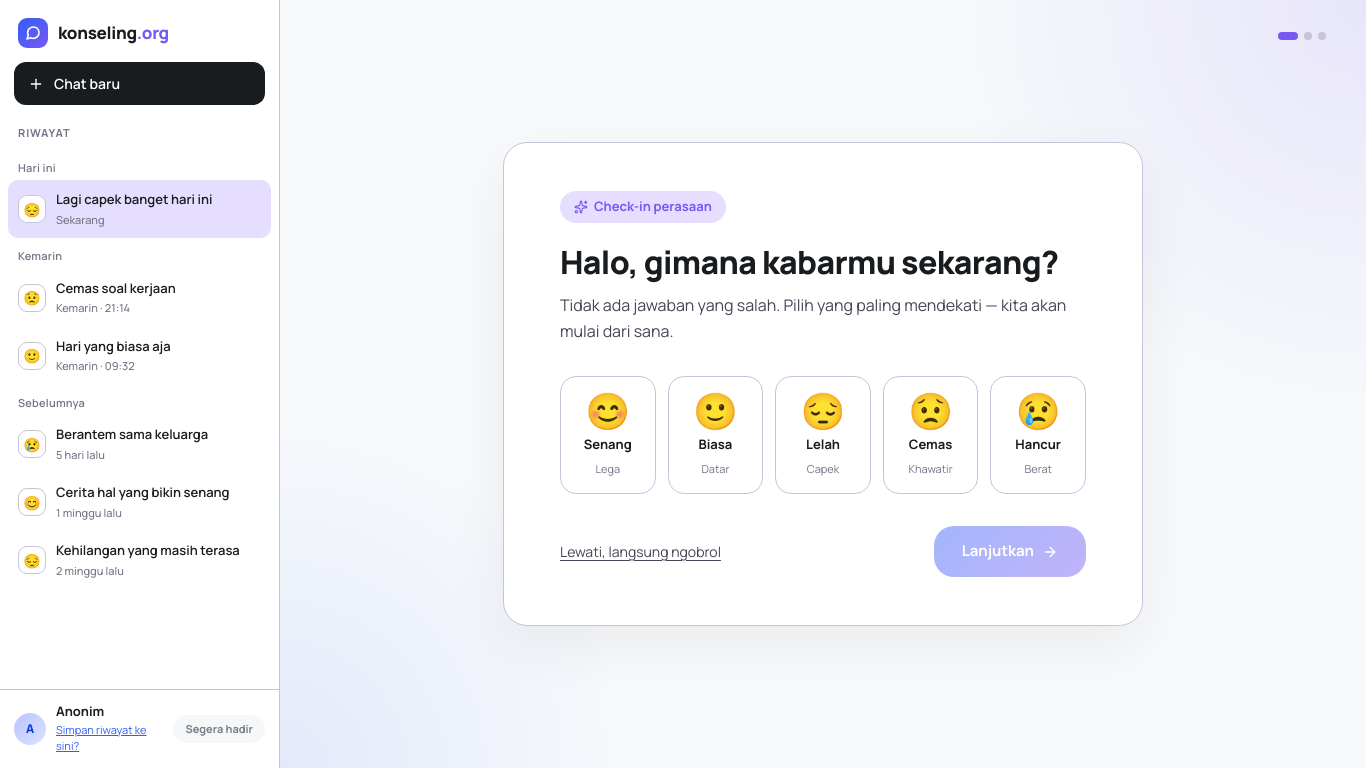
Test: ChatExperience › shows the takeover immediately for critical local crisis text before the stream responds
The width and height of the screenshot is (1366, 768).
Click the button with aria-label "Biasa — Datar". click: (715, 435)
box: left=668, top=376, right=763, bottom=494
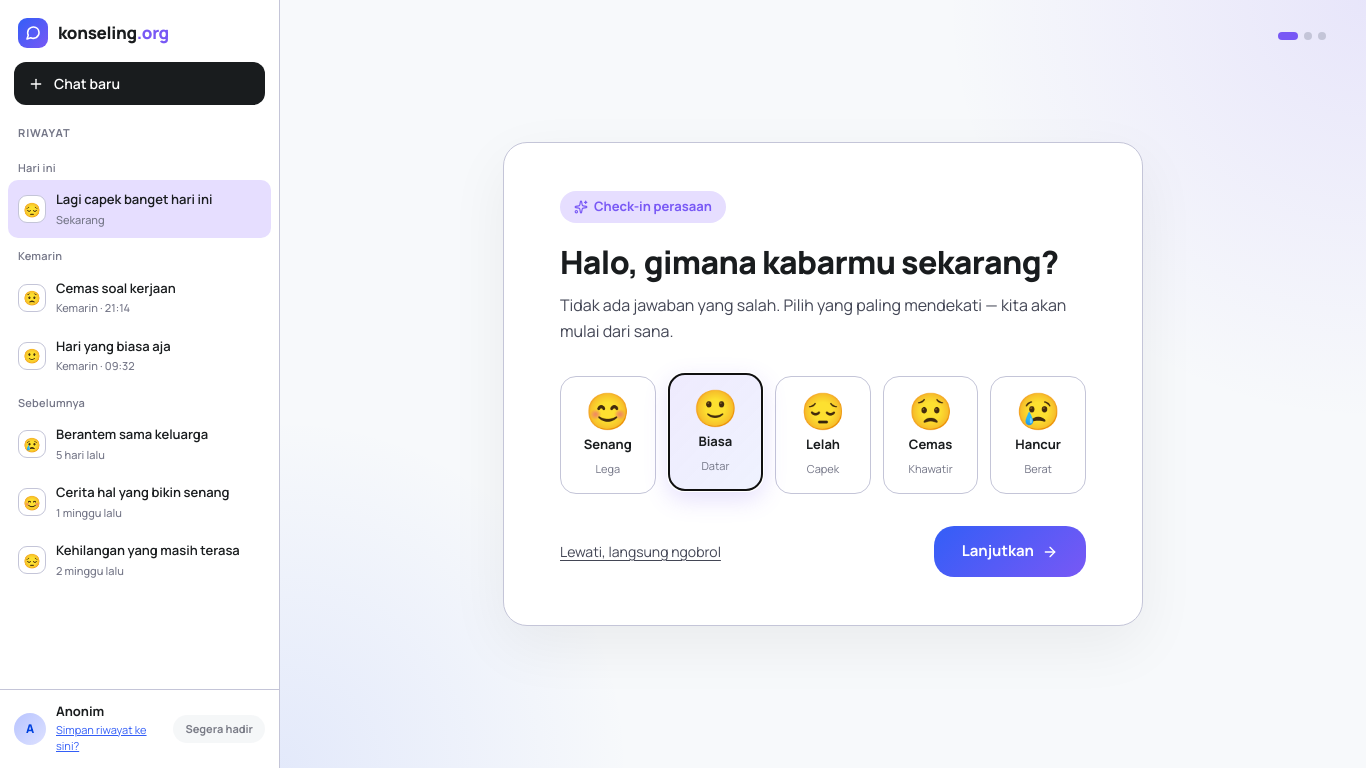
Click the button "Lanjutkan". click: (1010, 552)
box: left=934, top=526, right=1086, bottom=577
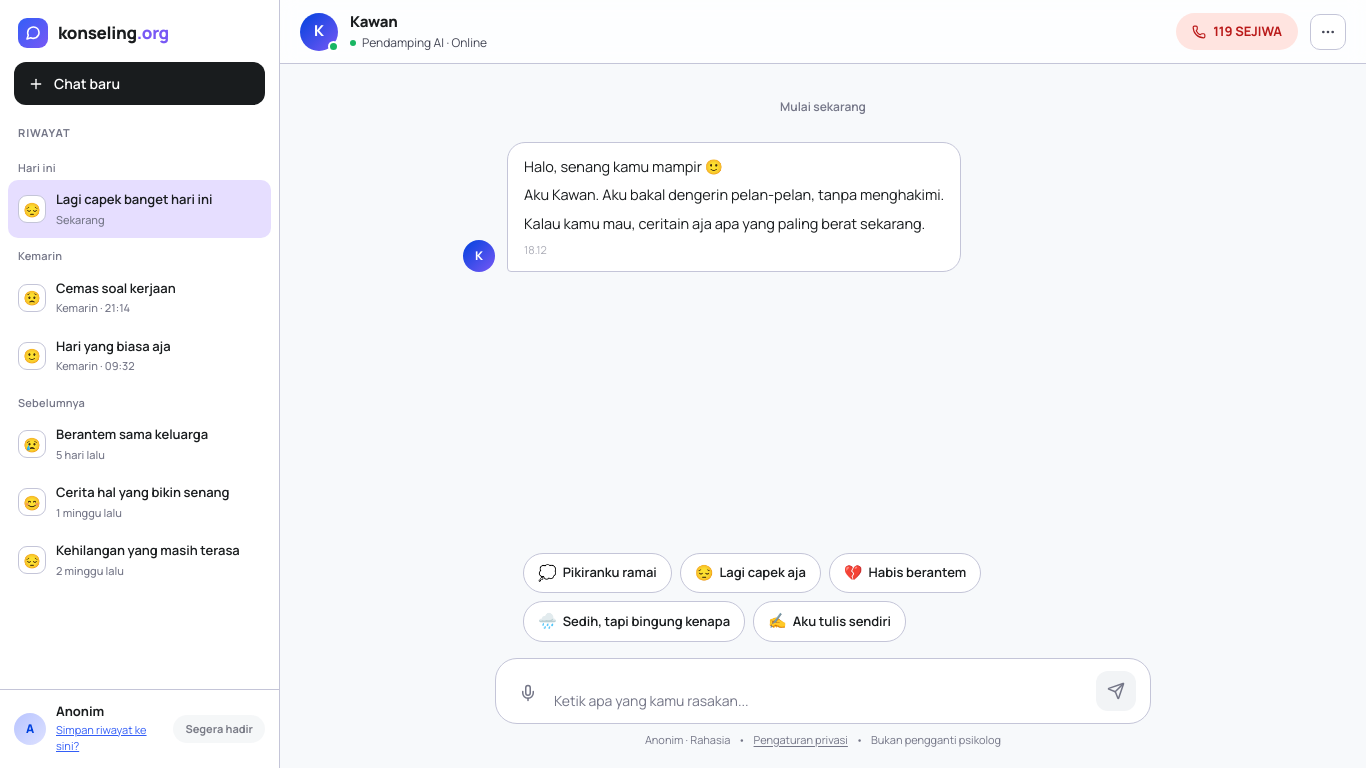
Now the text box named "Ketik pesan untuk Kawan" is shown
Type "Aku pengen mati" into the text box named "Ketik pesan untuk Kawan". click: (821, 700)
box: left=554, top=690, right=1088, bottom=710
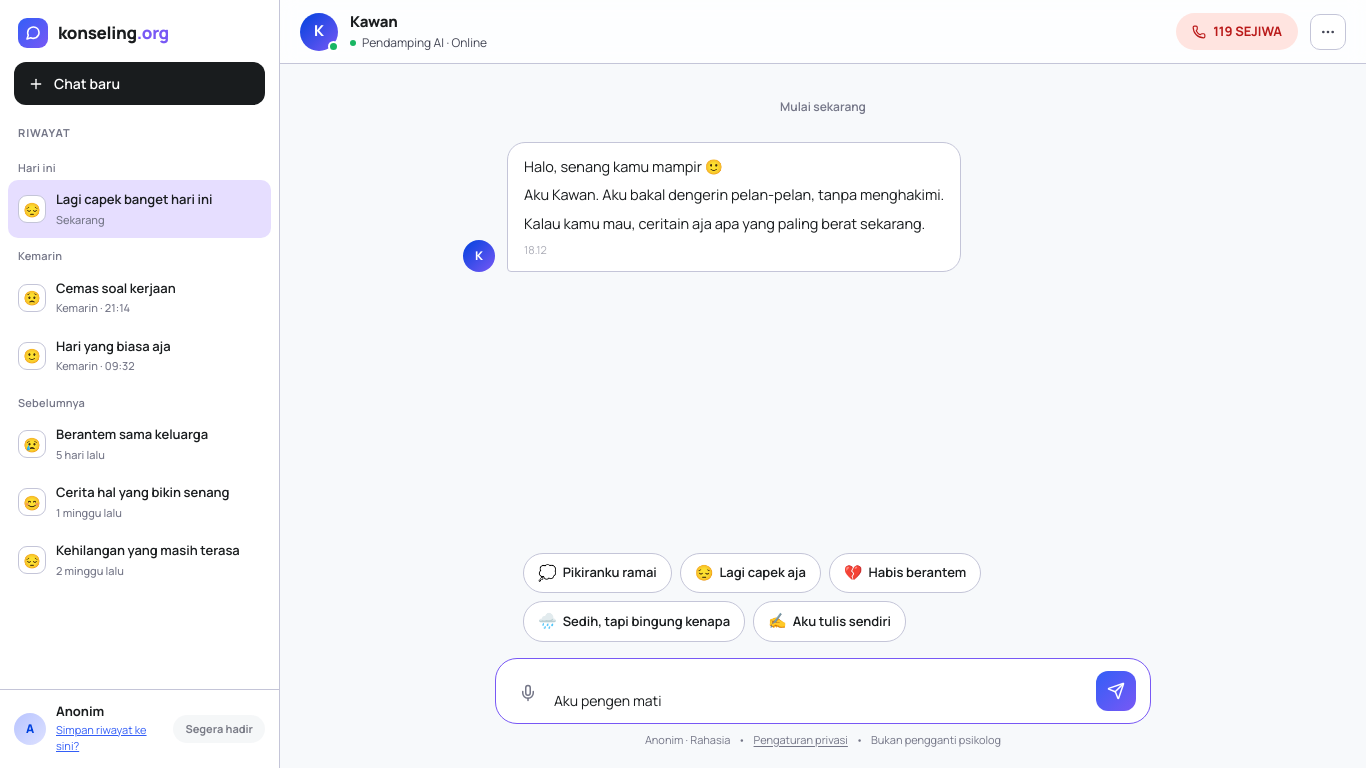
Click the button named "Kirim pesan". click: (1116, 690)
box: left=1096, top=670, right=1136, bottom=710
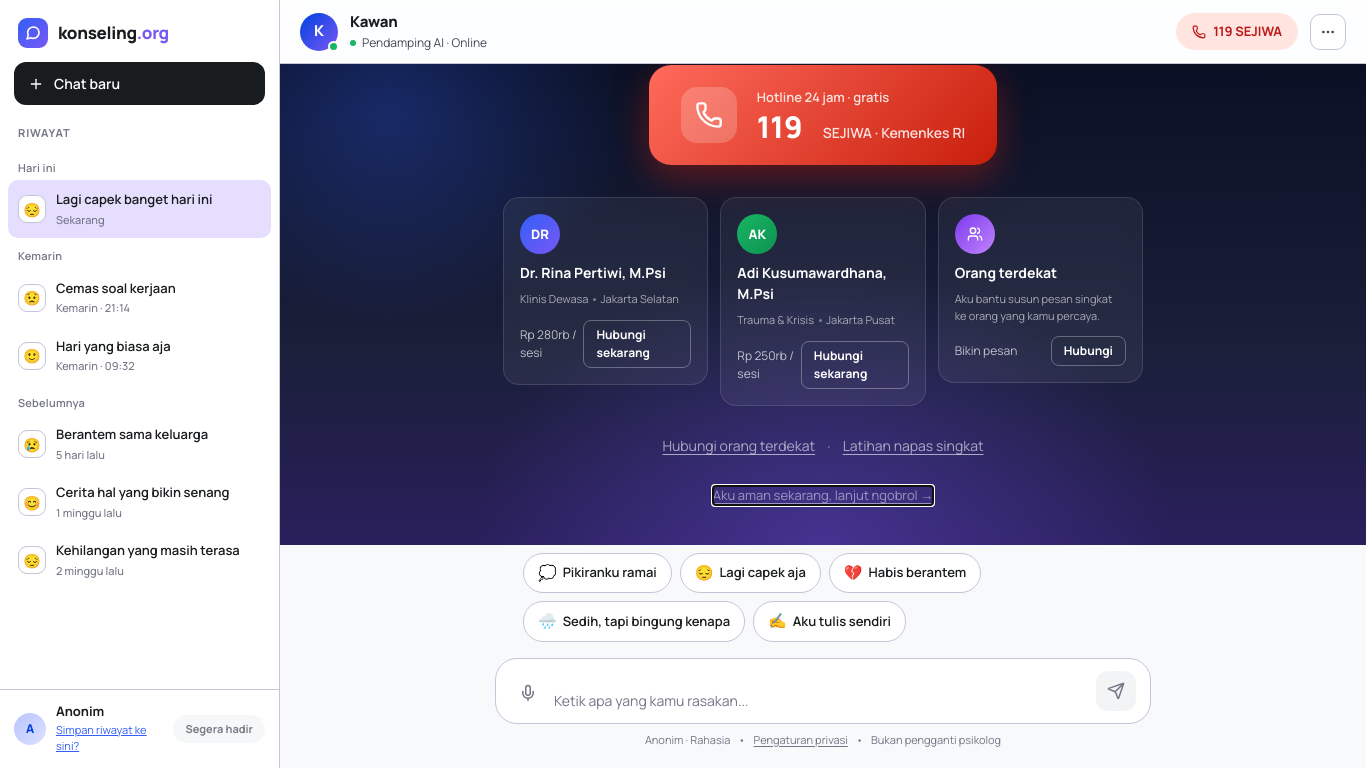
Now the dialog is shown, box left=280, top=64, right=1365, bottom=544
Now the button named "Kirim pesan" is disabled, box left=1096, top=670, right=1136, bottom=710
